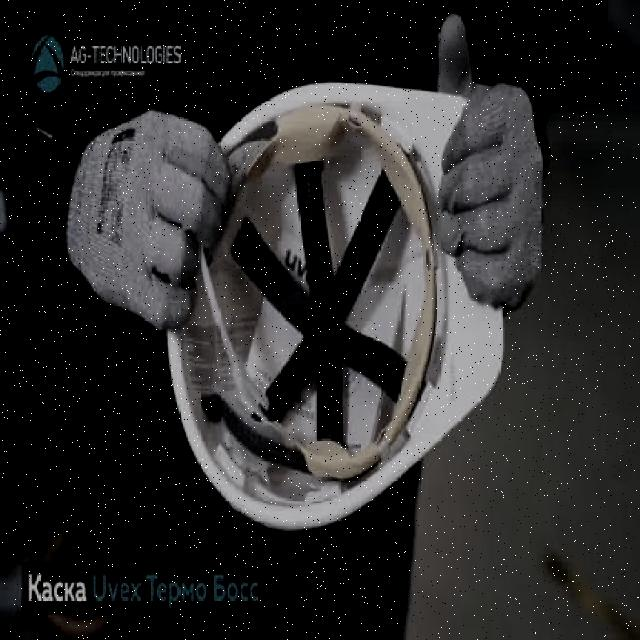Gloves: (65, 104, 232, 333), (434, 10, 546, 318)
Helmet: (163, 77, 506, 536)
